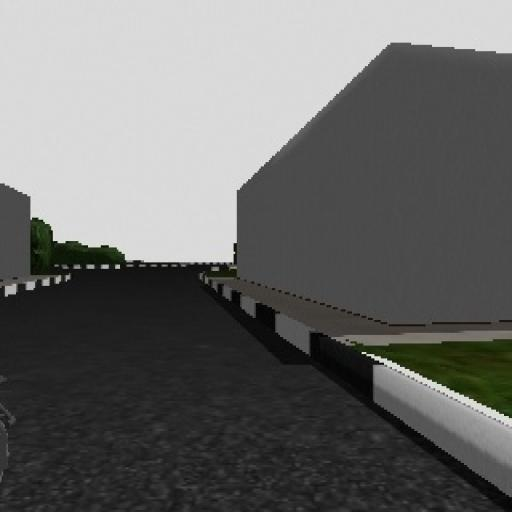huskya200: (0, 357, 30, 499)
